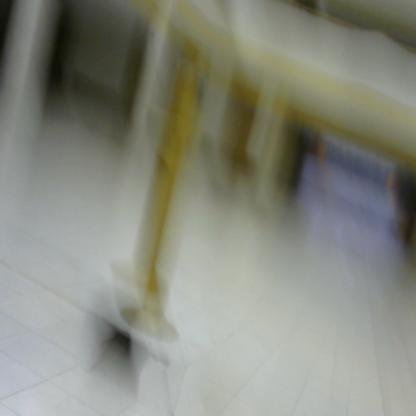pole: (125, 73, 209, 314)
